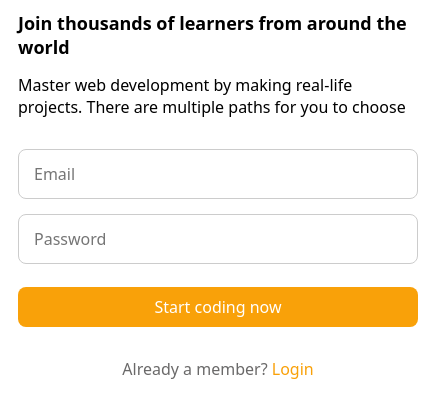
<SignUp /> › Should display a loading message while submitting
Type "email@example.com" into the field with placeholder "Email".
click(218, 174); type("email@example.com")  # box [18,149,418,199]
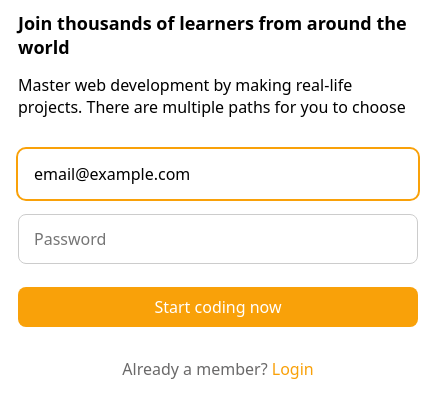
Type "1ValidPassword" into the password field with placeholder "Password".
click(218, 239); type("1ValidPassword")  # box [18,214,418,264]
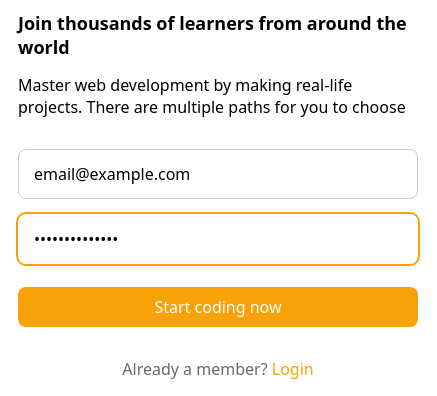
Click the button.
click(218, 307)  # box [18,287,418,327]
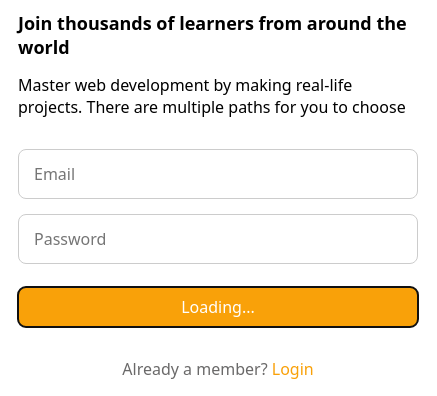
Check: the button "Loading..." is shown, box [18,287,418,327]
